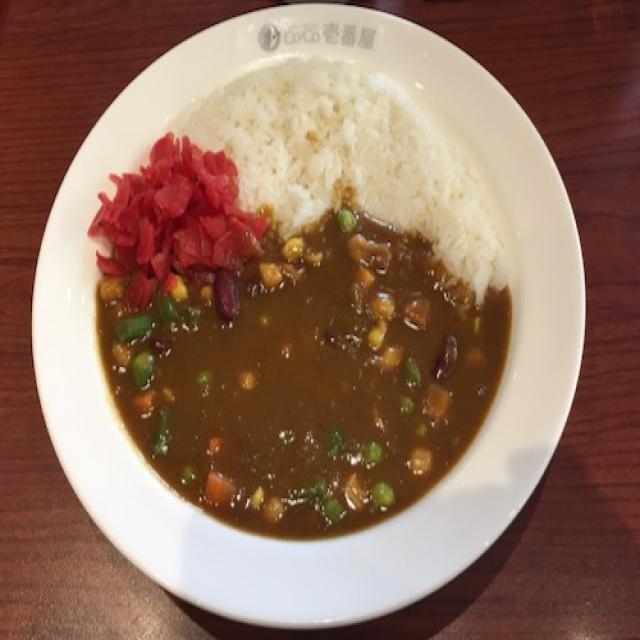Wet: (95, 55, 517, 537)
